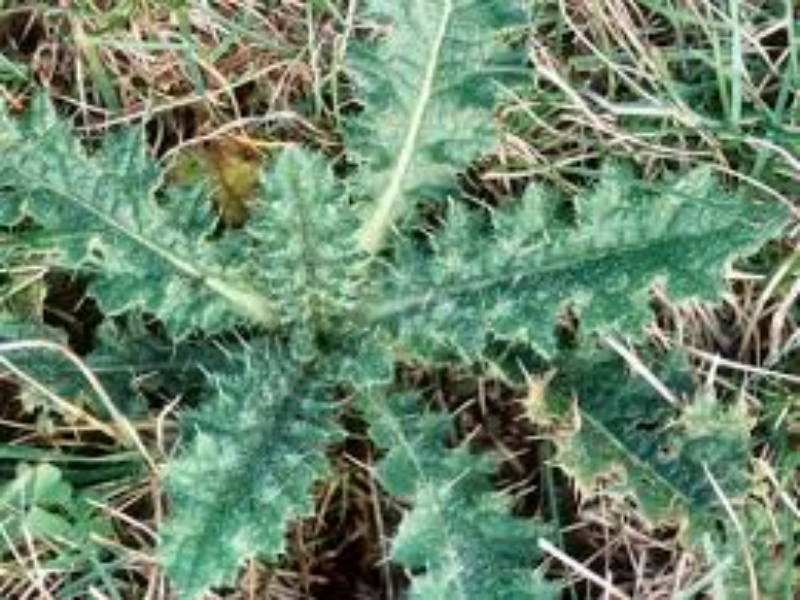weed: (11, 23, 738, 570)
